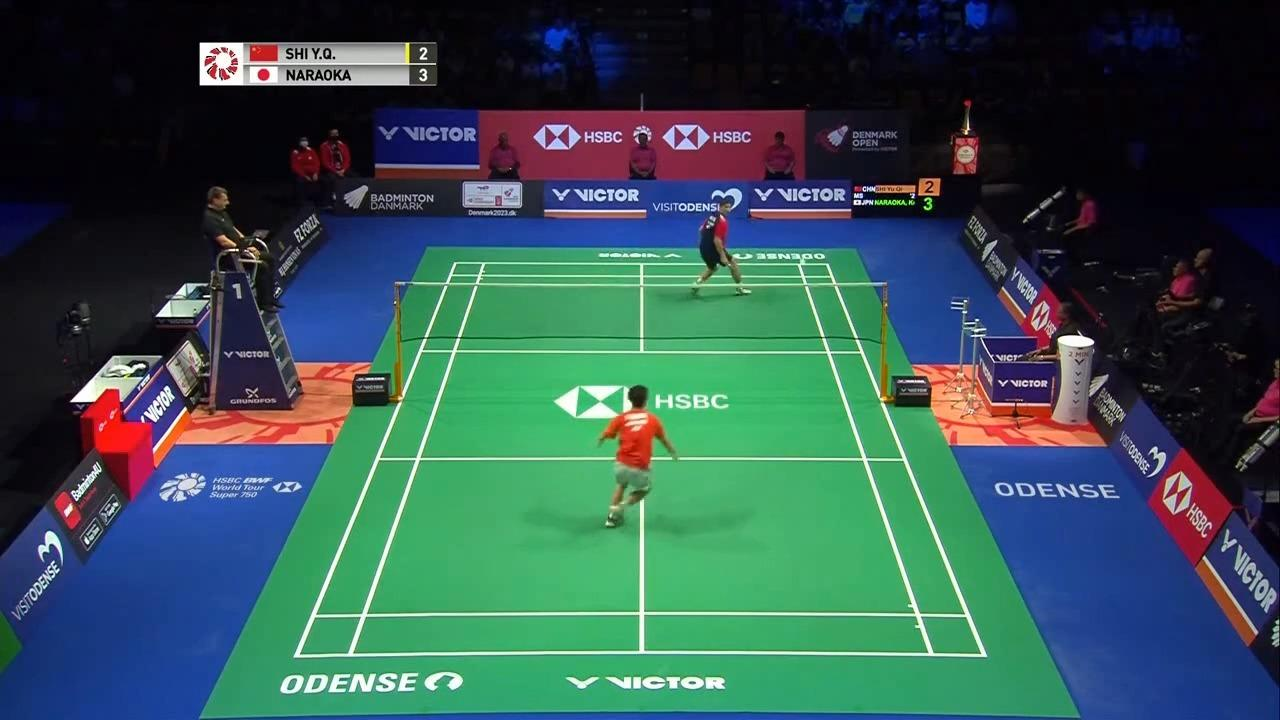shuttle: (797, 257, 811, 267)
